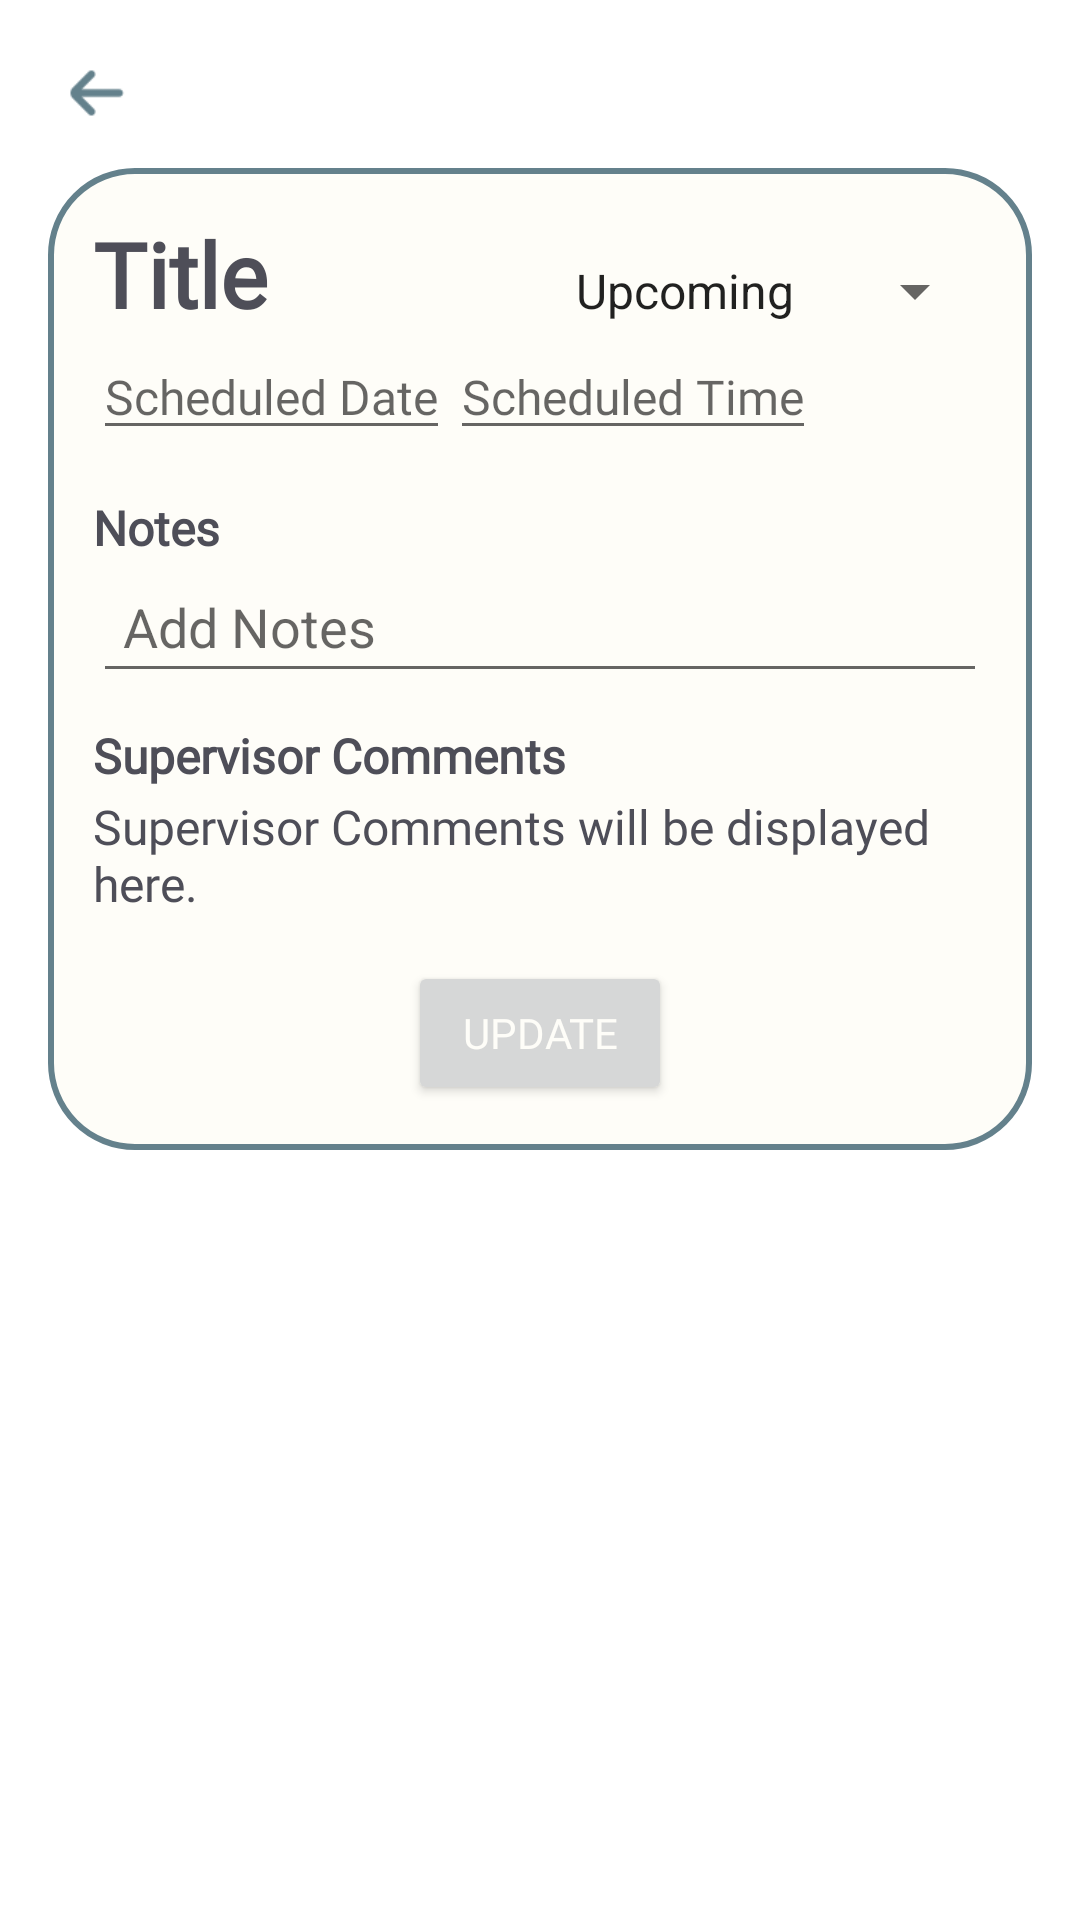

Icons on this 1080×1920 Android screen, each with its box as (x1, y1, x2, y2):
back: (70, 70, 124, 116)
